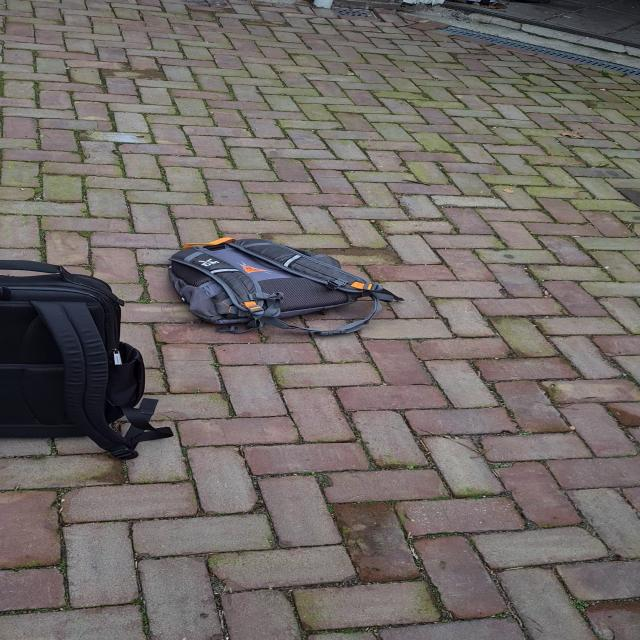backpack: (0, 255, 160, 467), (158, 237, 389, 335)
